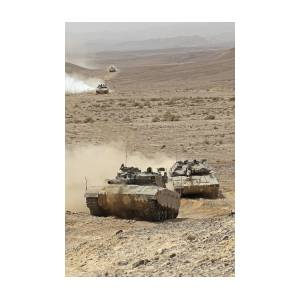Battle Tank: (81, 166, 184, 225), (165, 159, 227, 199)
